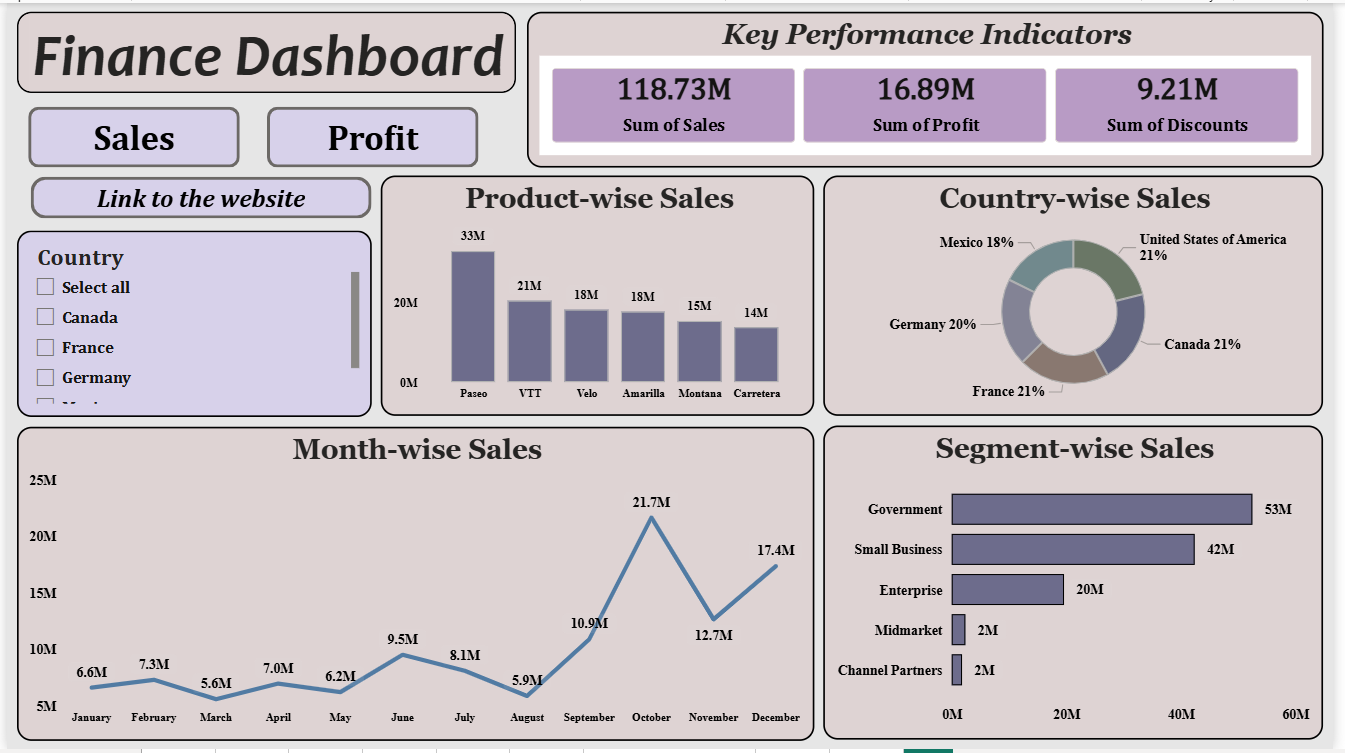

Layout of this report page (visuals, bound fields, positions):
{"tool":"powerbi","page":{"name":"Q9.","canvas":[1280,720],"ordinal":8},"visuals":[{"type":"textbox","title":"Finance Dashboard","box":[9.8,8.6,481.8,78.3],"z":0},{"type":"cardVisual","title":"Key Performance Indicators","fields":{"Data":["Sum(financials. Sales)","Sum(financials.Profit)","Sum(financials.Discounts)"]},"box":[501.4,8.6,769.2,150.4],"z":5000},{"type":"slicer","fields":{"Values":["financials.Country"]},"box":[9.8,220.1,342.4,179.8],"z":6000},{"type":"actionButton","box":[20.8,100.3,204.2,58.7],"z":7000},{"type":"actionButton","box":[250.7,100.3,204.2,58.7],"z":8000},{"type":"actionButton","box":[23.2,167.5,328.9,40.4],"z":9000},{"type":"columnChart","title":"Product-wise Sales ","fields":{"Category":["financials.Product"],"Y":["Sum(financials. Sales)"]},"box":[360.3,167,418.8,232.3],"z":10000},{"type":"donutChart","title":"Country-wise Sales","fields":{"Category":["financials.Country"],"Y":["Sum(financials. Sales)"]},"box":[787.5,167,482.8,232.3],"z":11000},{"type":"lineChart","title":"Month-wise Sales","fields":{"Category":["financials.Date.Variation.Date Hierarchy.Month"],"Y":["Sum(financials. Sales)"]},"box":[9.7,409,769.4,303.3],"z":12000},{"type":"barChart","title":"Segment-wise Sales","fields":{"Category":["financials.Segment"],"Y":["Sum(financials. Sales)"]},"box":[787.5,407.7,482.8,303.3],"z":13000}]}

Visuals, with their boxes in screenshot pixels (x1, y1, x2, y2), scaled from the page's 1280x720 canvas onto the 1345x753 screenshot:
"Finance Dashboard" textbox: Rect(10, 9, 517, 91)
"Key Performance Indicators" cardVisual: Rect(527, 9, 1335, 166)
slicer - financials.Country: Rect(10, 230, 370, 418)
actionButton: Rect(22, 105, 236, 166)
actionButton: Rect(263, 105, 478, 166)
actionButton: Rect(24, 175, 370, 217)
"Product-wise Sales " columnChart: Rect(379, 175, 819, 418)
"Country-wise Sales" donutChart: Rect(827, 175, 1335, 418)
"Month-wise Sales" lineChart: Rect(10, 428, 819, 745)
"Segment-wise Sales" barChart: Rect(827, 426, 1335, 744)
